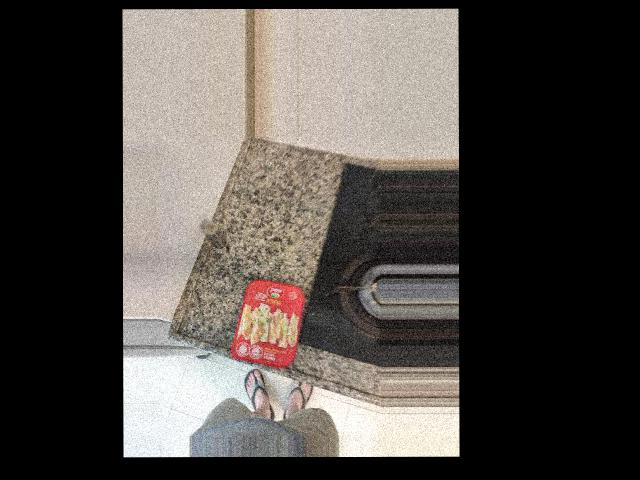cheese: (238, 186, 327, 295)
